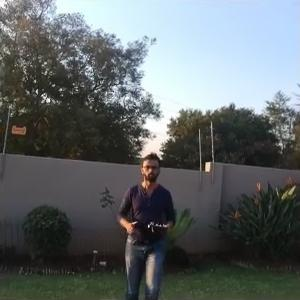follow: (111, 151, 178, 298)
